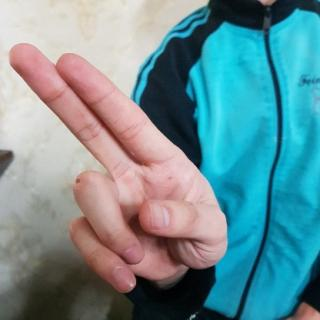TA: (2, 40, 232, 301)
